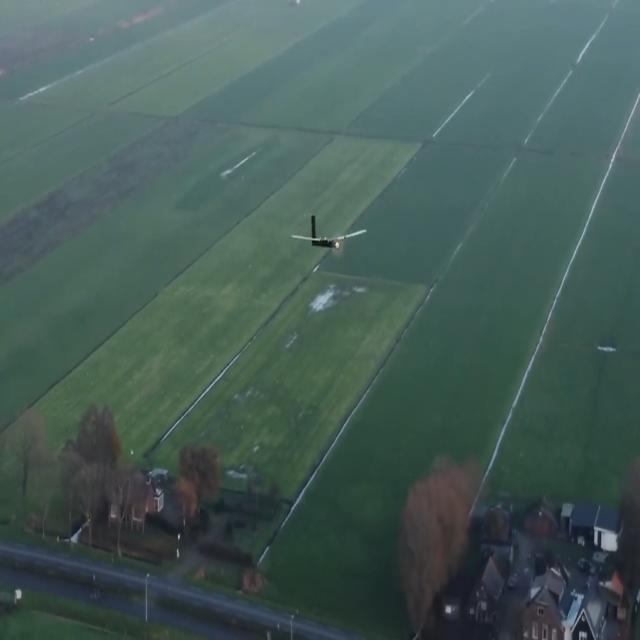iha: (318, 214, 323, 255)
